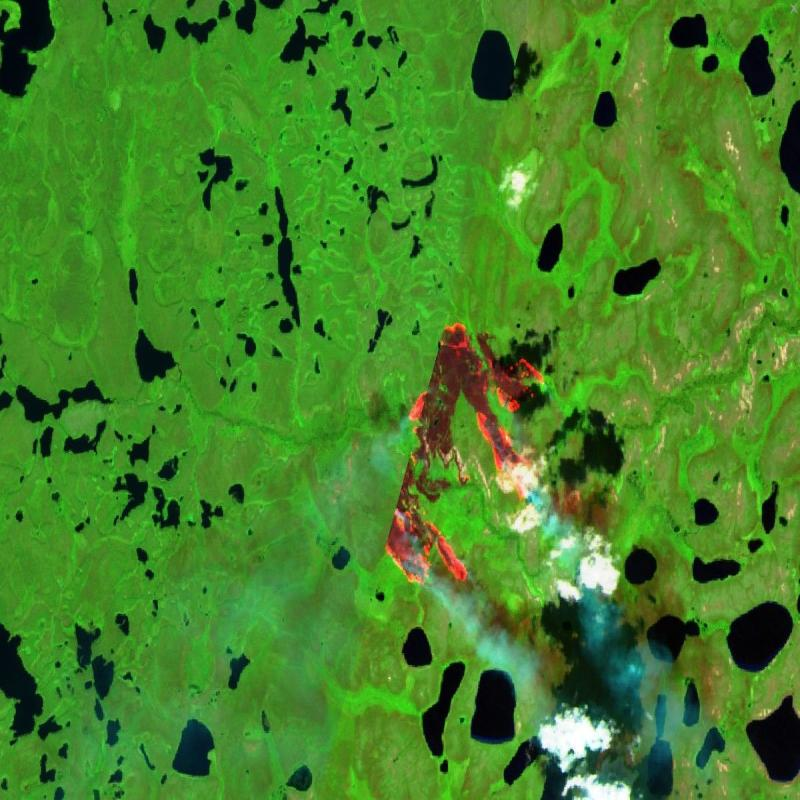fire: (384, 316, 556, 606)
